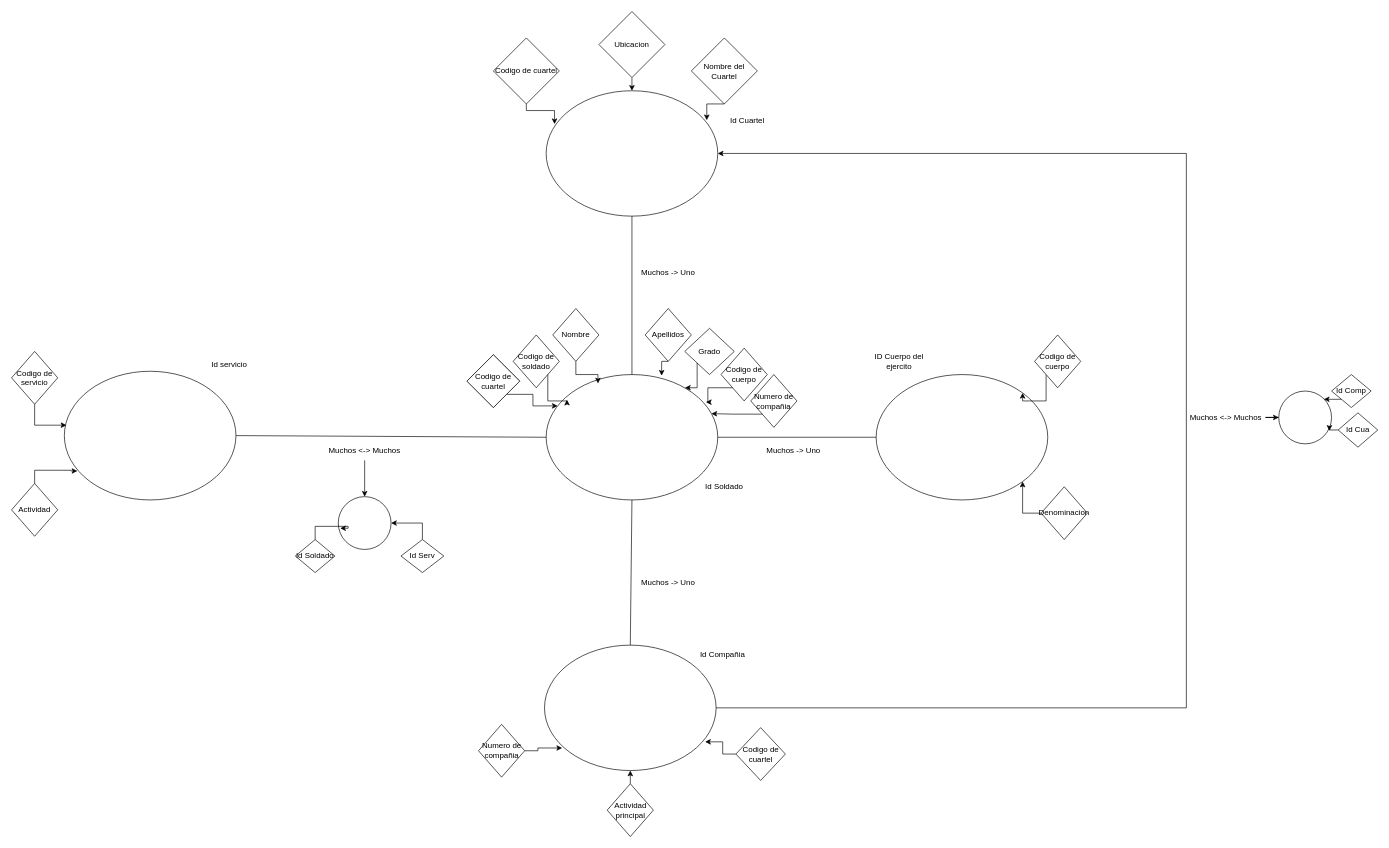
Image size: 1389x848. Some labels were removed from this diagram. Each missing label, with the box of its shape:
Compañia: (544, 644, 716, 771)
Cuartel: (545, 90, 718, 216)
Cuerpo del ejercito: (875, 374, 1048, 500)
Ids Comp y Cua: (1278, 390, 1332, 444)
IDs Sold y Serv: (338, 496, 391, 549)
Servicio: (64, 371, 236, 500)
Soldado: (545, 374, 718, 500)
